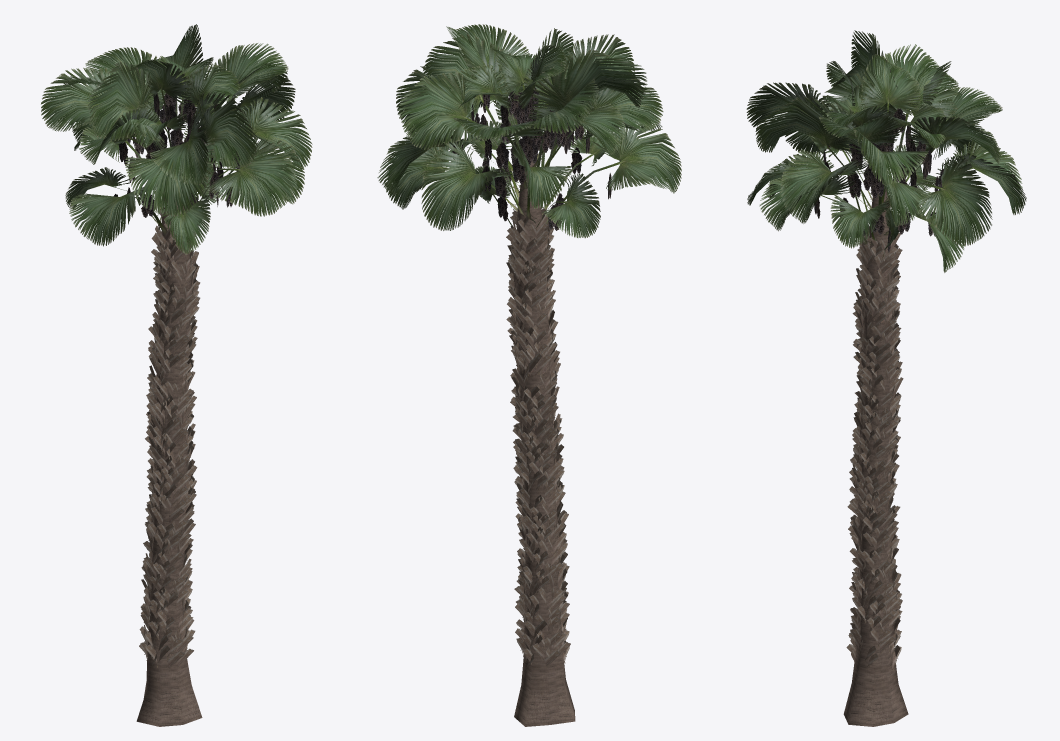
Rendered from Sabal_Mexicana_Autumn_Adult.glb.
3 views of the same model, side by side, from view 1: azimuth 30°, elevation 25°; view 2: azimuth 150°, elevation 25°; view 3: azimuth 270°, elevation 25° (orthographic). The views are drawn at different scales.
Parts seen in each view (by area): view 1: Sabal_Mexicana_Autumn_Adult__LOD3; view 2: Sabal_Mexicana_Autumn_Adult__LOD3; view 3: Sabal_Mexicana_Autumn_Adult__LOD3.
Part boxes in pixels (x1,y1,x2,y2): Sabal_Mexicana_Autumn_Adult__LOD3: (41, 24, 312, 726); Sabal_Mexicana_Autumn_Adult__LOD3: (377, 24, 681, 726); Sabal_Mexicana_Autumn_Adult__LOD3: (746, 30, 1026, 726).
Size of the model in its own units: 8.3 by 19.07 by 8.5.
3 materials, 3 textured.
